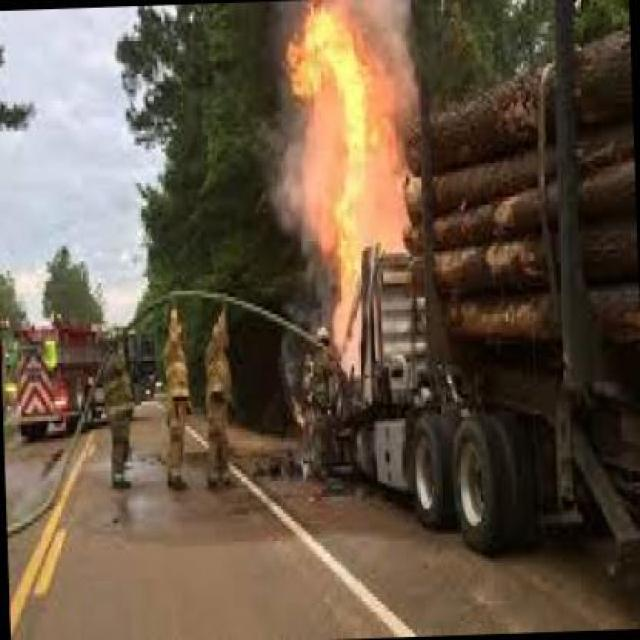Fire: (274, 6, 414, 362)
Smoke: (272, 110, 344, 260), (368, 11, 434, 121), (368, 178, 425, 254)
